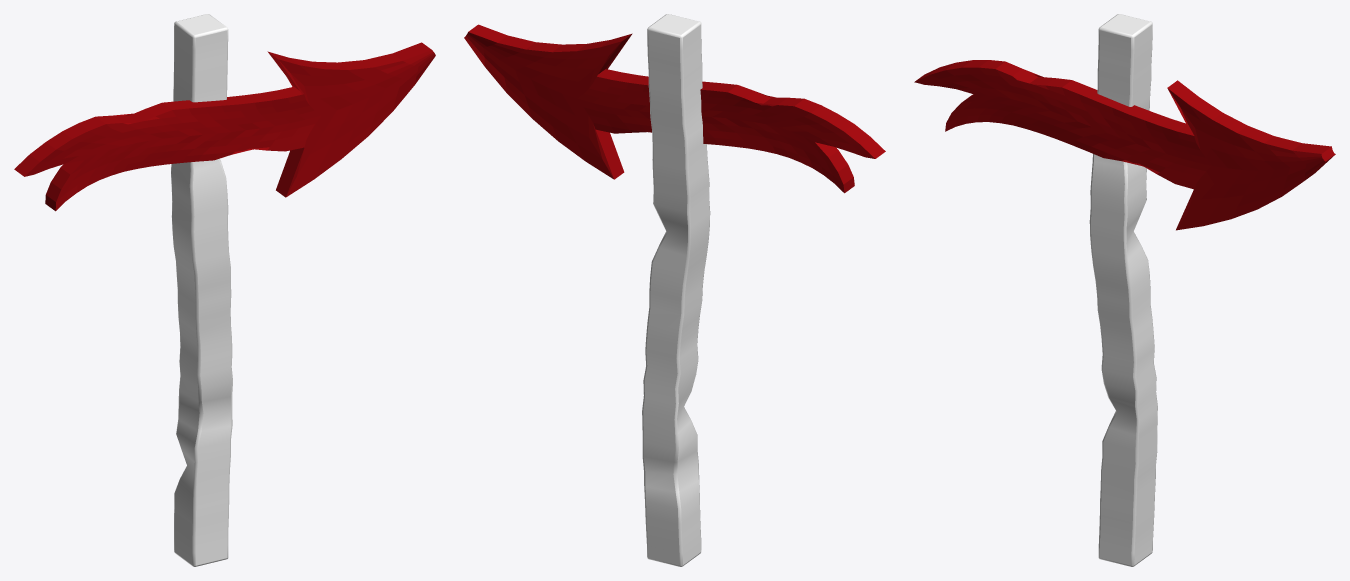
File: flecha.glb
3 renders of one model, left to right at view 1: azimuth 30°, elevation 25°; view 2: azimuth 150°, elevation 25°; view 3: azimuth 330°, elevation 25°, orthographic.
Parts seen in each view (by area): view 1: Wooden_Arrow, Wooden_Post.001; view 2: Wooden_Post.001, Wooden_Arrow; view 3: Wooden_Arrow, Wooden_Post.001.
Boxes of the visible parts, <box> form: Wooden_Arrow: <box>14,42,435,211</box>; Wooden_Post.001: <box>171,14,232,566</box>; Wooden_Post.001: <box>642,14,710,566</box>; Wooden_Arrow: <box>464,24,885,193</box>; Wooden_Arrow: <box>914,60,1335,230</box>; Wooden_Post.001: <box>1089,14,1157,566</box>.
Size of the model in its own units: 1.62 by 2 by 0.2023.
